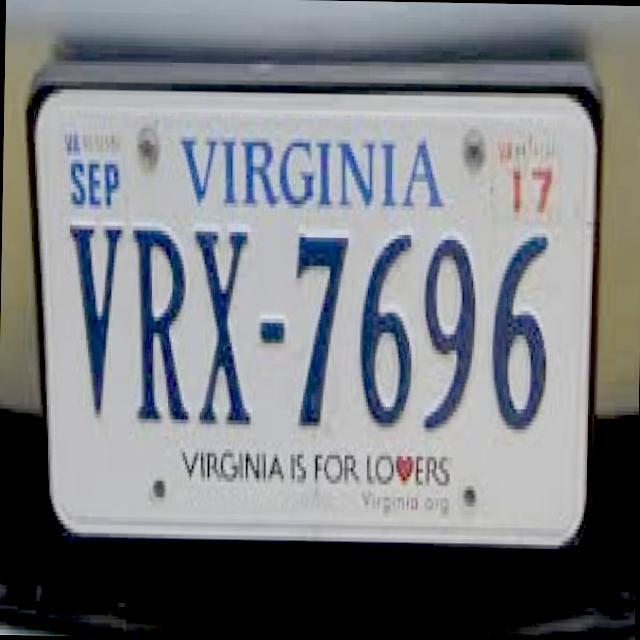Plat: (24, 46, 594, 560)
